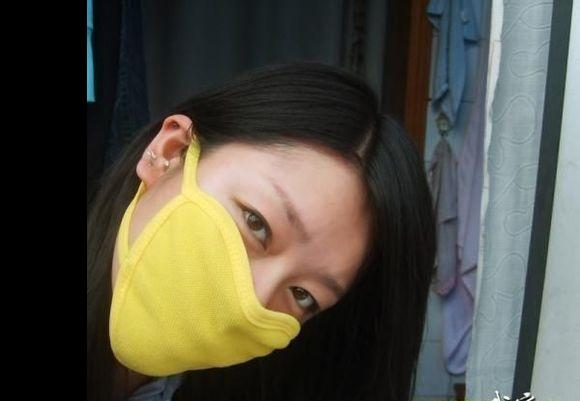OK: (117, 168, 336, 387)
